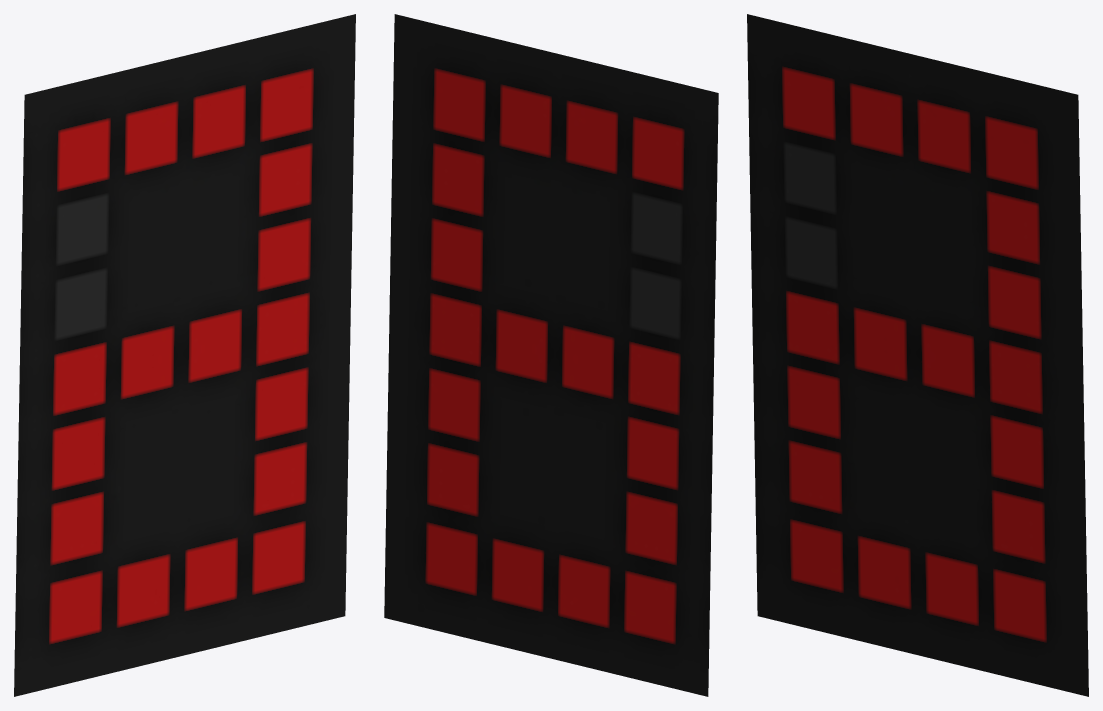
3 renders of one model, left to right at view 1: azimuth 30°, elevation 25°; view 2: azimuth 150°, elevation 25°; view 3: azimuth 330°, elevation 25°, orthographic. The views are drawn at different scales.
Parts seen in each view (by area): view 1: scorebord.001; view 2: scorebord.001; view 3: scorebord.001.
Boxes of the visible parts, x1,y1,x2,y2 form: scorebord.001: [14, 14, 355, 696]; scorebord.001: [384, 14, 718, 696]; scorebord.001: [747, 14, 1088, 696].
Bounding box in the file's own units: 0.00402 × 0.00706 × 0.000222.
1 material, 1 textured.
